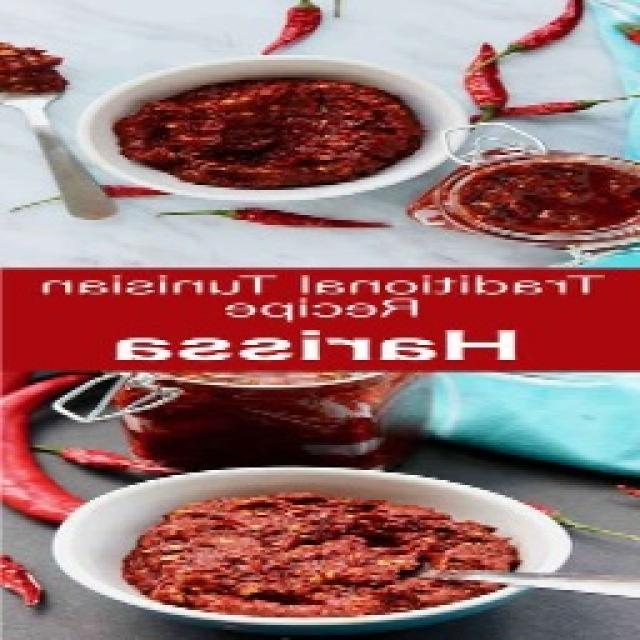Harissa: (3, 268, 640, 368), (125, 494, 519, 616), (110, 76, 422, 191), (55, 371, 411, 469)
